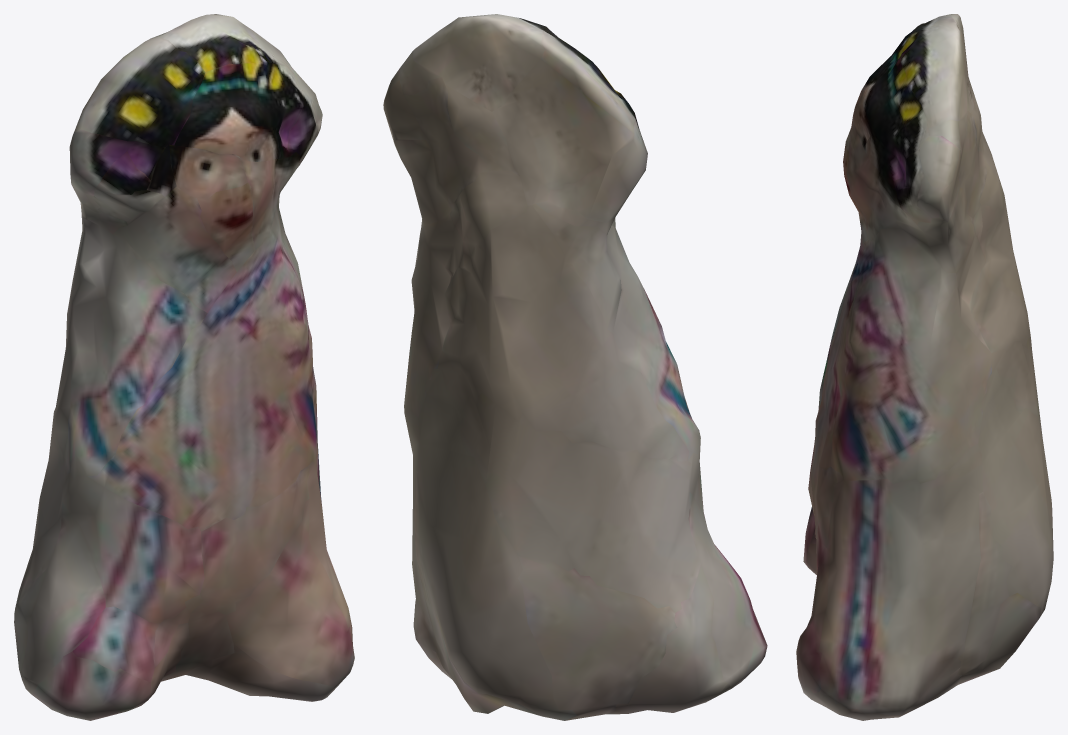
The model's file is hall.glb.
3 views of the same model, side by side, from view 1: azimuth 30°, elevation 25°; view 2: azimuth 150°, elevation 25°; view 3: azimuth 270°, elevation 25° (orthographic). The views are drawn at different scales.
Size of the model in its own units: 0.402 by 0.8 by 0.2846.
1 material, 1 textured.
